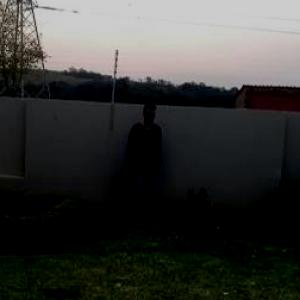follow: (124, 100, 161, 224)
